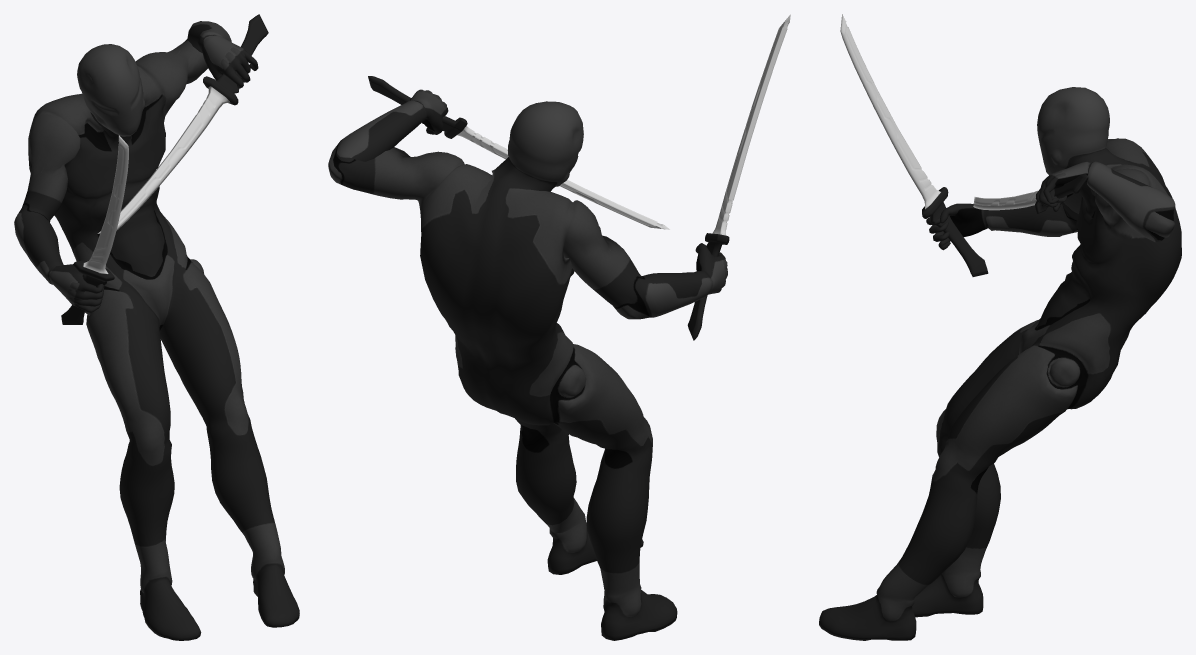
3 views of the same model, side by side, from view 1: azimuth 30°, elevation 25°; view 2: azimuth 150°, elevation 25°; view 3: azimuth 270°, elevation 25° (orthographic). The views are drawn at different scales.
Parts seen in each view (by area): view 1: Cyborg_Ninja_Killer, Sword_l, Sword_l001; view 2: Cyborg_Ninja_Killer, Sword_l001, Sword_l; view 3: Cyborg_Ninja_Killer, Sword_l001, Sword_l.
Boxes of the visible parts, x1,y1,x2,y2 form: Cyborg_Ninja_Killer: [14, 21, 299, 640]; Sword_l: [97, 14, 268, 233]; Sword_l001: [61, 135, 128, 324]; Cyborg_Ninja_Killer: [328, 89, 727, 640]; Sword_l001: [687, 14, 790, 340]; Sword_l: [368, 76, 669, 229]; Cyborg_Ninja_Killer: [819, 87, 1181, 640]; Sword_l001: [840, 14, 988, 276]; Sword_l: [973, 173, 1088, 213].
Size of the model in its own units: 88.81 by 173 by 103.
Materials: 2 (2 with a texture image).
